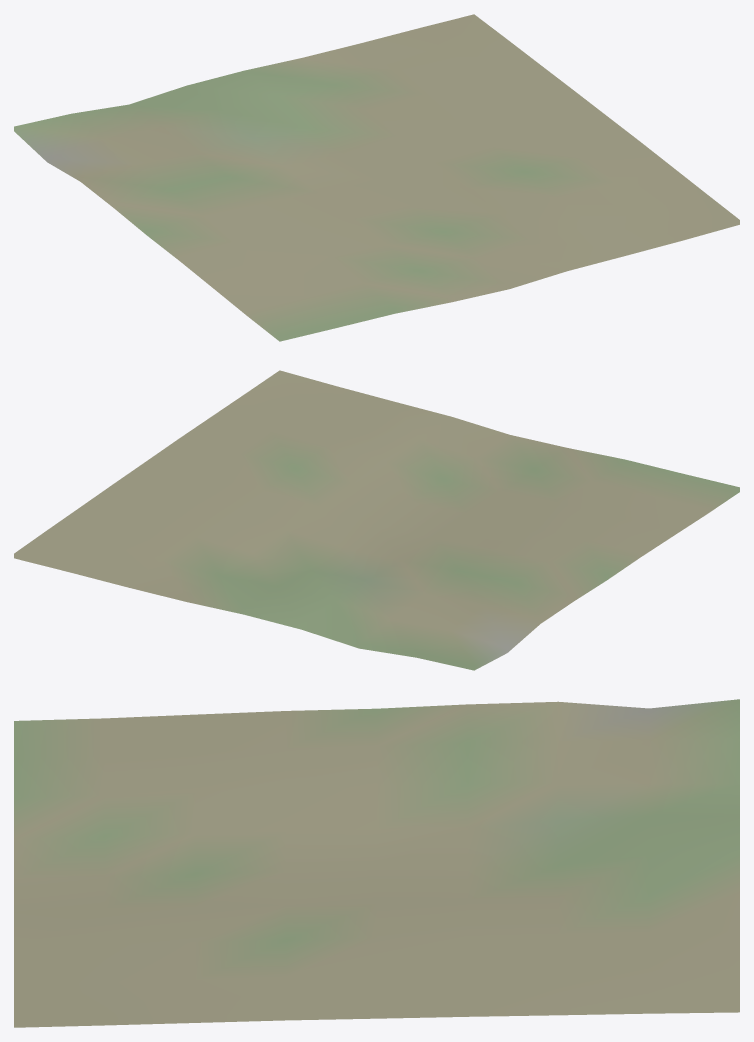
3 views of the same model, one above another, from view 1: azimuth 30°, elevation 25°; view 2: azimuth 150°, elevation 25°; view 3: azimuth 270°, elevation 25° (orthographic). The views are drawn at different scales.
Visible parts, largest first — view 1: prim0; view 2: prim0; view 3: prim0.
Boxes of the visible parts, x1,y1,x2,y2 form: prim0: [14, 14, 739, 341]; prim0: [14, 370, 739, 670]; prim0: [14, 699, 739, 1027].
Size of the model in its own units: 512 by 25.74 by 512.
